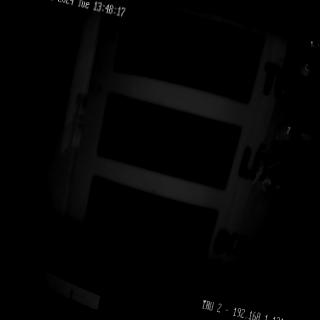screen: (65, 0, 273, 283)
